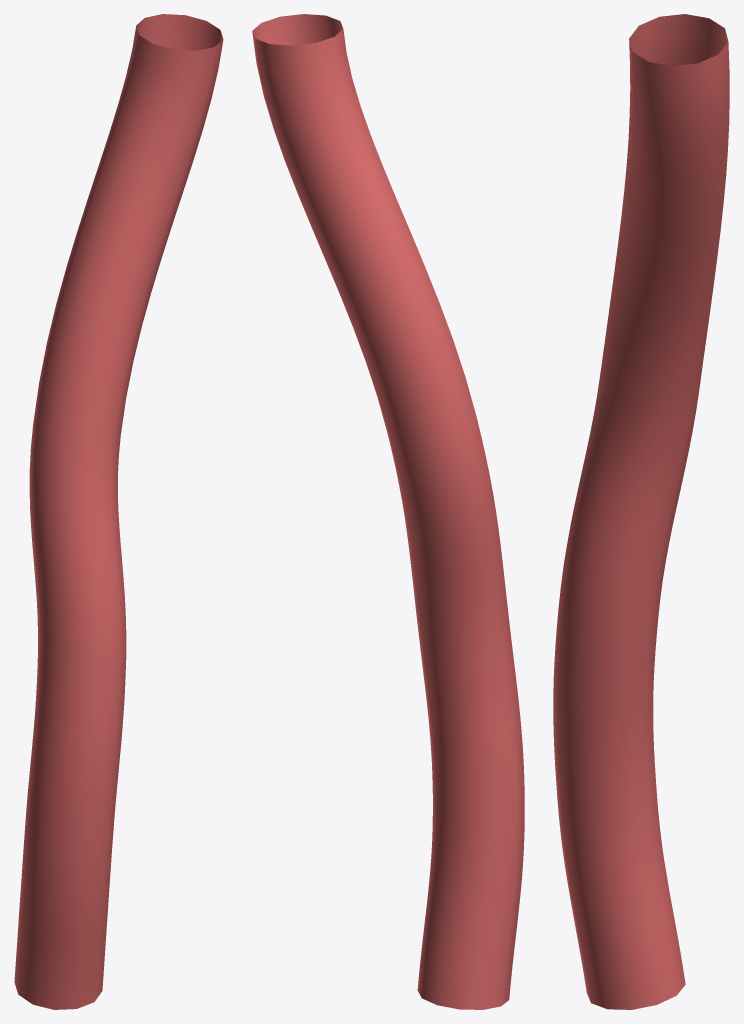
File: Left_common_carotid_artery.glb
The picture shows the model from 3 angles, left to right: view 1: azimuth 30°, elevation 25°; view 2: azimuth 150°, elevation 25°; view 3: azimuth 270°, elevation 25°; orthographic projection. The views are drawn at different scales.
Parts seen in each view (by area): view 1: Left_common_carotid_artery_BezierCurve.199; view 2: Left_common_carotid_artery_BezierCurve.199; view 3: Left_common_carotid_artery_BezierCurve.199.
Boxes of the visible parts, bbox=[...] form: Left_common_carotid_artery_BezierCurve.199: bbox=[14, 14, 223, 1009]; Left_common_carotid_artery_BezierCurve.199: bbox=[252, 14, 524, 1009]; Left_common_carotid_artery_BezierCurve.199: bbox=[553, 14, 729, 1009].
Size of the model in its own units: 0.0228 by 0.0914 by 0.0141.
